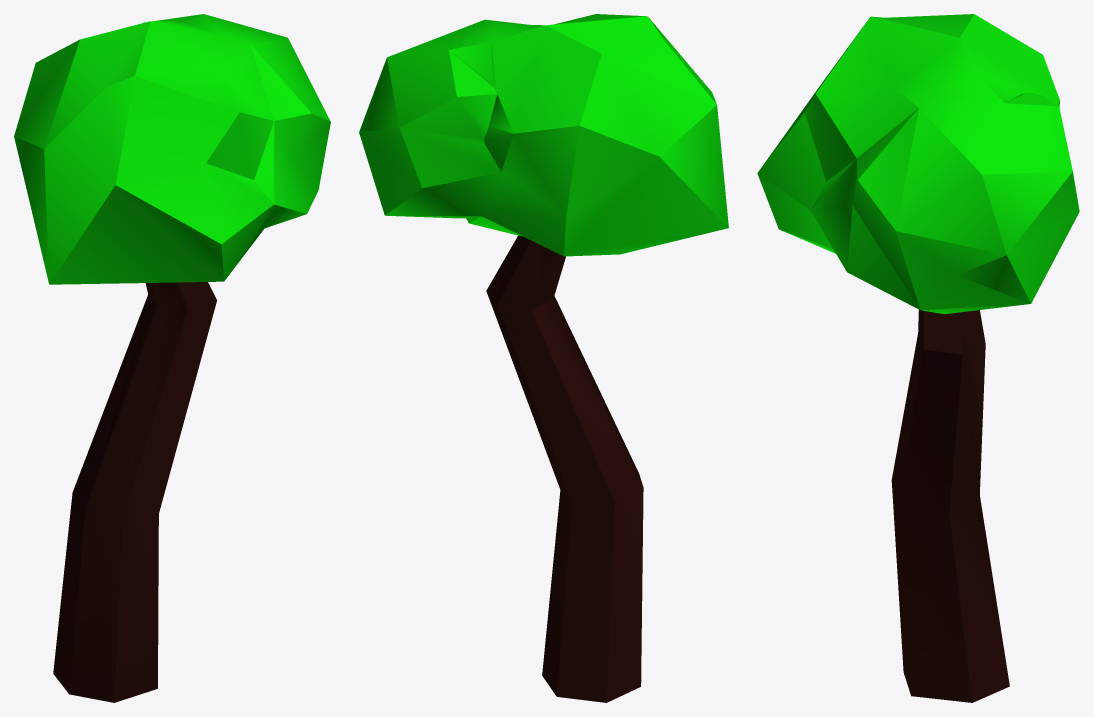
File: tree03.fbx
3 renders of one model, left to right at view 1: azimuth 30°, elevation 25°; view 2: azimuth 150°, elevation 25°; view 3: azimuth 270°, elevation 25°, orthographic. The views are drawn at different scales.
Visible parts, largest first — view 1: spookyTrees4; view 2: spookyTrees4; view 3: spookyTrees4.
Boxes of the visible parts, x1,y1,x2,y2 form: spookyTrees4: (14,14,330,702); spookyTrees4: (359,14,728,702); spookyTrees4: (757,14,1079,702).
Size of the model in its own units: 1.81 by 3.65 by 1.6.
